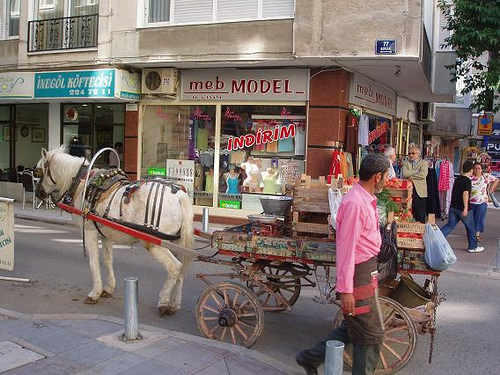horse: (33, 145, 195, 317)
